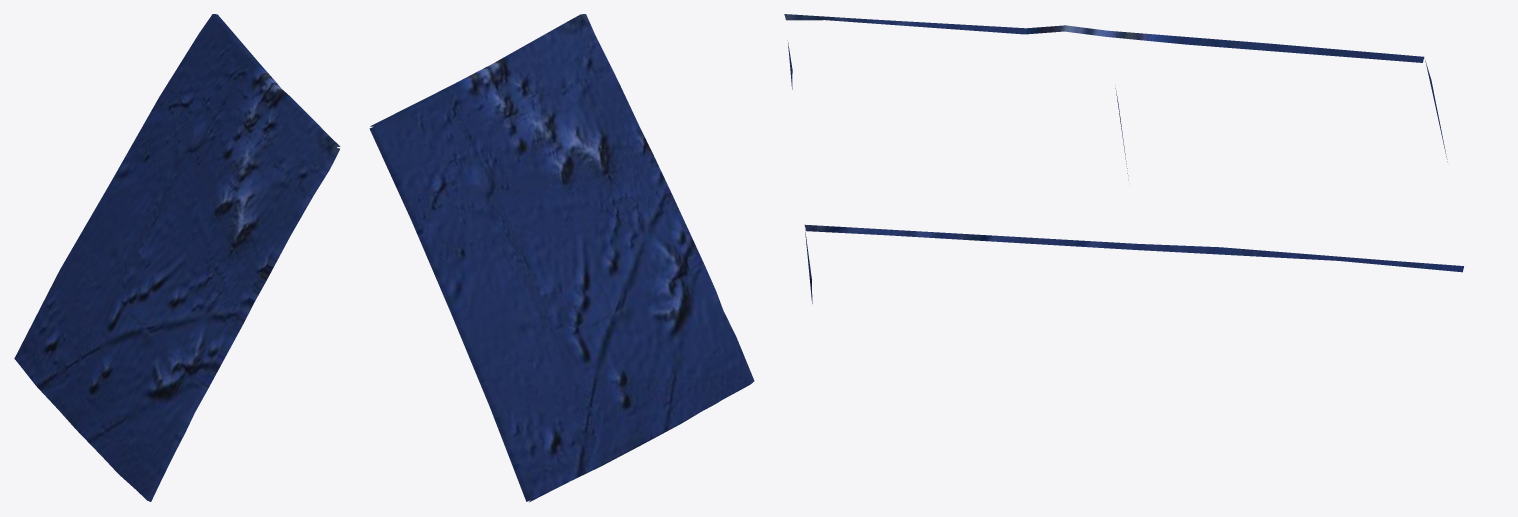
The picture shows the model from 3 angles, left to right: view 1: azimuth 30°, elevation 25°; view 2: azimuth 150°, elevation 25°; view 3: azimuth 270°, elevation 25°; orthographic projection. The views are drawn at different scales.
Size of the model in its own units: 405092 by 545765 by 582610.
Materials: 1 (1 with a texture image).
